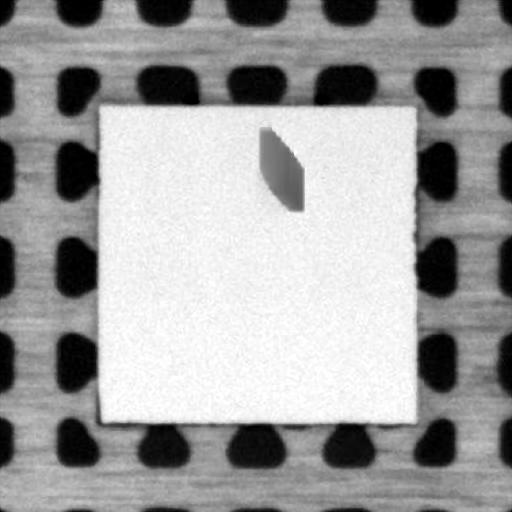DIE_INK: (249, 110, 308, 226)
